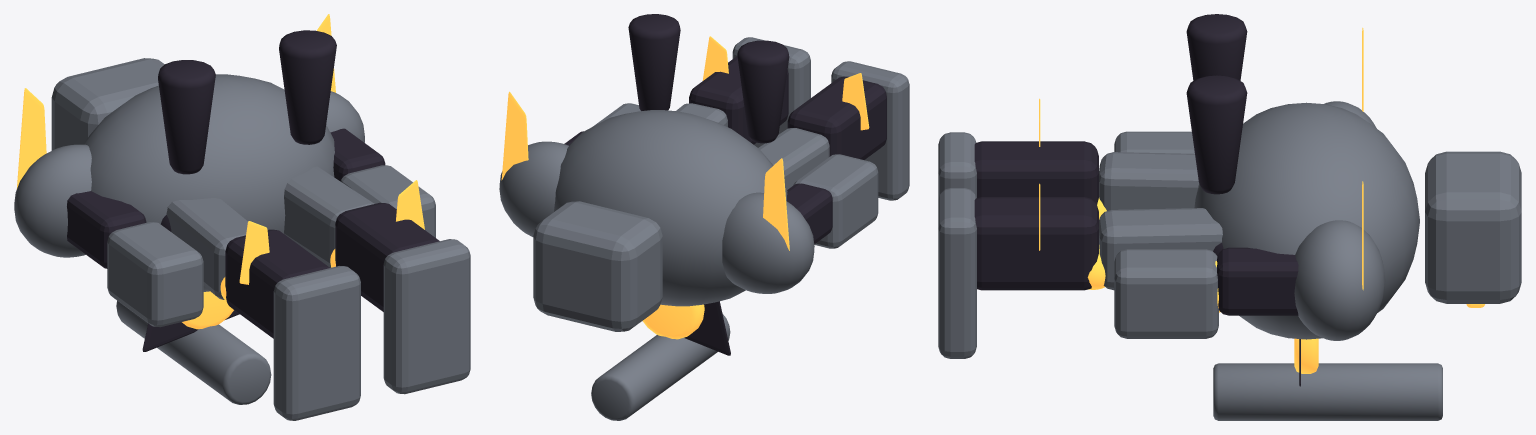
The model's file is shooter_enemy.glb.
3 views of the same model, side by side, from view 1: azimuth 30°, elevation 25°; view 2: azimuth 150°, elevation 25°; view 3: azimuth 270°, elevation 25° (orthographic). The views are drawn at different scales.
Visible parts, largest first — view 1: torso, foot, foot.001, forearm, shoulder-shell, enemy-cannon, head, lower-leg.001, enemy-thruster.001, enemy-thruster, lower-leg, upper-leg.001 (+10 smaller); view 2: torso, head, shoulder-shell, enemy-cannon, lower-leg, forearm, foot, enemy-thruster, shoulder-shell.001, enemy-thruster.001, lower-leg.001, upper-leg (+9 smaller); view 3: torso, head, enemy-cannon, lower-leg.001, forearm.001, shoulder-shell.001, lower-leg, foot.001, enemy-thruster.001, upper-leg, upper-leg.001, upper-arm.001 (+4 smaller).
Part boxes in pixels (x1=…): torso: x1=84, y1=74, x2=334, y2=291; foot: x1=273, y1=266, x2=360, y2=420; foot.001: x1=383, y1=239, x2=470, y2=394; forearm: x1=107, y1=222, x2=203, y2=327; shoulder-shell: x1=14, y1=144, x2=91, y2=257; enemy-cannon: x1=116, y1=300, x2=271, y2=404; head: x1=51, y1=58, x2=164, y2=150; lower-leg.001: x1=335, y1=202, x2=439, y2=311; enemy-thruster.001: x1=279, y1=30, x2=336, y2=144; enemy-thruster: x1=158, y1=60, x2=215, y2=174; lower-leg: x1=225, y1=229, x2=329, y2=338; upper-leg.001: x1=284, y1=166, x2=374, y2=267; torso: x1=554, y1=110, x2=787, y2=306; head: x1=533, y1=201, x2=662, y2=331; shoulder-shell: x1=722, y1=192, x2=814, y2=293; enemy-cannon: x1=591, y1=313, x2=730, y2=420; lower-leg: x1=787, y1=76, x2=886, y2=159; forearm: x1=793, y1=154, x2=878, y2=248; foot: x1=831, y1=61, x2=909, y2=200; enemy-thruster: x1=737, y1=40, x2=789, y2=143; shoulder-shell.001: x1=499, y1=141, x2=568, y2=236; enemy-thruster.001: x1=628, y1=14, x2=680, y2=110; lower-leg.001: x1=689, y1=56, x2=788, y2=144; upper-leg: x1=758, y1=128, x2=829, y2=189; torso: x1=1194, y1=102, x2=1419, y2=339; head: x1=1425, y1=151, x2=1521, y2=303; enemy-cannon: x1=1213, y1=363, x2=1442, y2=420; lower-leg.001: x1=974, y1=197, x2=1098, y2=290; forearm.001: x1=1114, y1=249, x2=1218, y2=338; shoulder-shell.001: x1=1294, y1=220, x2=1385, y2=340; lower-leg: x1=974, y1=141, x2=1098, y2=204; foot.001: x1=938, y1=188, x2=976, y2=358; enemy-thruster.001: x1=1186, y1=75, x2=1247, y2=194; upper-leg: x1=1099, y1=152, x2=1199, y2=210; upper-leg.001: x1=1099, y1=208, x2=1222, y2=290; upper-arm.001: x1=1217, y1=247, x2=1298, y2=315.
Size of the model in its own units: 1.7 by 1.66 by 2.41.
